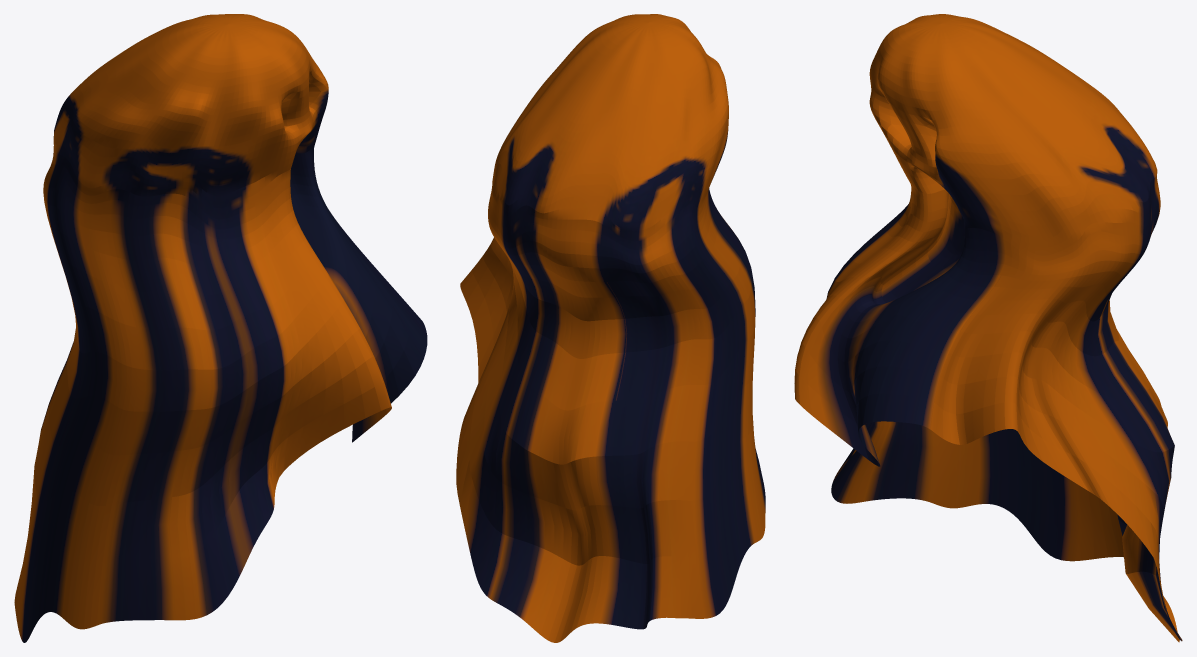
The model's file is ghost11.obj.
3 renders of one model, left to right at view 1: azimuth 30°, elevation 25°; view 2: azimuth 150°, elevation 25°; view 3: azimuth 270°, elevation 25°, orthographic. The views are drawn at different scales.
Visible parts, largest first — view 1: 球体; view 2: 球体; view 3: 球体.
Part boxes in pixels (left/top/right/bottom): 球体: left=14, top=14, right=427, bottom=642; 球体: left=456, top=14, right=765, bottom=642; 球体: left=794, top=14, right=1182, bottom=642.
Size of the model in its own units: 8.62 by 15.89 by 8.99.
1 material, 1 textured.
